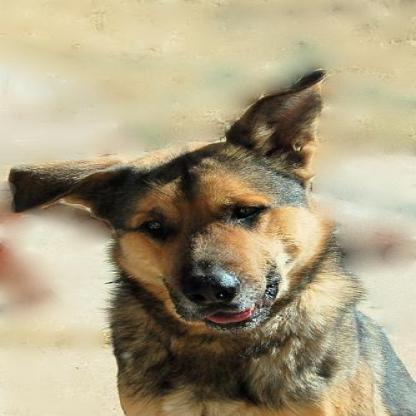dog: (8, 74, 416, 416)
